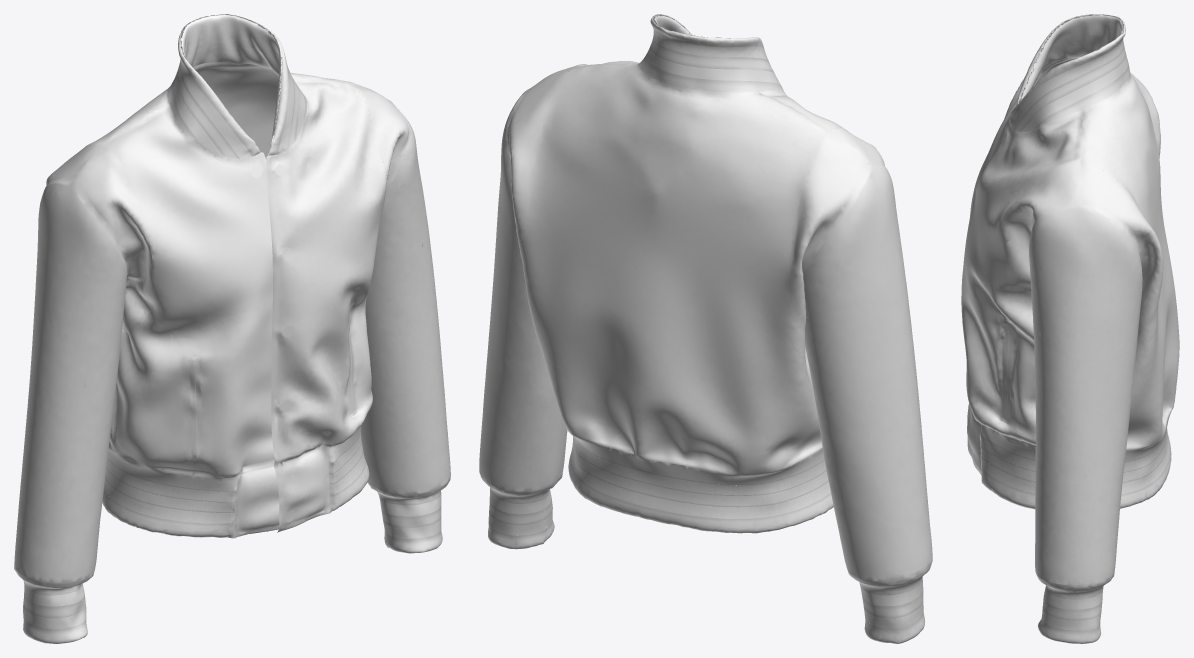
The model's file is Bomber Ricco Giovente.gltf.
3 renders of one model, left to right at view 1: azimuth 30°, elevation 25°; view 2: azimuth 150°, elevation 25°; view 3: azimuth 270°, elevation 25°, orthographic. The views are drawn at different scales.
Parts seen in each view (by area): view 1: Body_Front_62, Body_Front_51, Sleeves_32, Sleeves_31, Body_Front_64, Body_Back_56, Pattern2D_1417901, Pattern2D_1994988, Pattern2D_1995003, Pattern2D_1994991, Body_Front_47, Pattern2D_1417908 (+17 smaller); view 2: Body_Back_56, Sleeves_32, Sleeves_31, Body_Front_63, Body_Front_42, Pattern2D_1995003, Pattern2D_1995001, Pattern2D_1995002, Pattern2D_1995005, Pattern2D_1995004, Pattern2D_1417911, Pattern2D_1417910 (+13 smaller); view 3: Sleeves_31, Body_Front_51, Body_Back_56, Body_Front_42, Body_Front_47, Pattern2D_1417901, Pattern2D_1995003, Pattern2D_1417908, Pattern2D_1417909, Pattern2D_1417907, Pattern2D_1995001, Pattern2D_1417910 (+15 smaller).
Boxes of the visible parts, x1,y1,x2,y2 form: Body_Front_62: [105, 104, 274, 478]; Body_Front_51: [266, 77, 386, 469]; Sleeves_32: [14, 184, 127, 582]; Sleeves_31: [361, 117, 450, 494]; Body_Front_64: [69, 145, 153, 330]; Body_Back_56: [89, 62, 349, 454]; Pattern2D_1417901: [181, 14, 281, 152]; Pattern2D_1994988: [275, 450, 329, 532]; Pattern2D_1995003: [102, 459, 369, 538]; Pattern2D_1994991: [233, 466, 279, 537]; Body_Front_47: [351, 84, 411, 189]; Pattern2D_1417908: [178, 14, 289, 156]; Body_Back_56: [519, 63, 829, 476]; Sleeves_32: [803, 168, 932, 581]; Sleeves_31: [479, 100, 567, 491]; Body_Front_63: [791, 131, 873, 319]; Body_Front_42: [506, 68, 573, 249]; Pattern2D_1995003: [568, 453, 833, 533]; Pattern2D_1995001: [571, 446, 830, 518]; Pattern2D_1995002: [572, 440, 828, 507]; Pattern2D_1995005: [573, 436, 824, 485]; Pattern2D_1995004: [573, 436, 826, 495]; Pattern2D_1417911: [638, 56, 782, 92]; Pattern2D_1417910: [645, 47, 780, 84]; Sleeves_31: [1029, 208, 1142, 585]; Body_Front_51: [961, 109, 1084, 448]; Body_Back_56: [1080, 74, 1179, 450]; Body_Front_42: [1075, 160, 1163, 329]; Body_Front_47: [1003, 160, 1080, 295]; Pattern2D_1417901: [1019, 15, 1123, 102]; Pattern2D_1995003: [981, 443, 1171, 509]; Pattern2D_1417908: [1009, 14, 1125, 123]; Pattern2D_1417909: [1013, 45, 1125, 131]; Pattern2D_1417907: [1010, 38, 1123, 129]; Pattern2D_1995001: [980, 433, 1170, 494]; Pattern2D_1417910: [1021, 54, 1128, 131].
Size of the model in its own units: 0.6251 by 0.7788 by 0.2911.
Materials: 44 (44 with a texture image).
